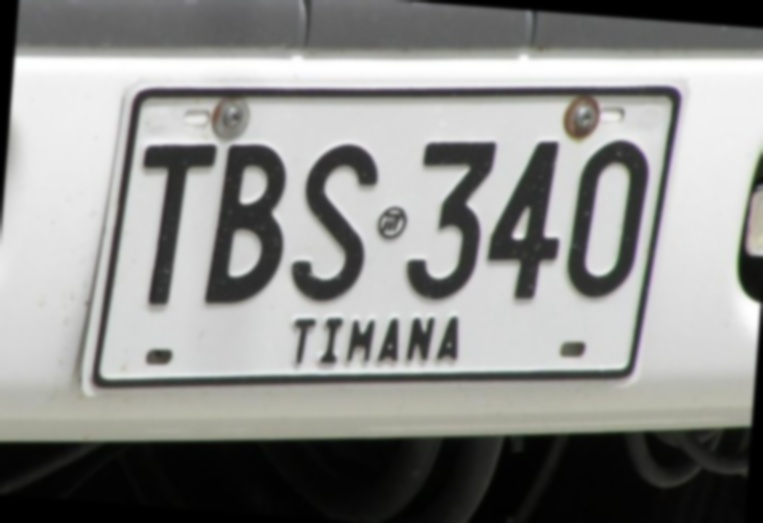placas: (74, 32, 692, 444)
